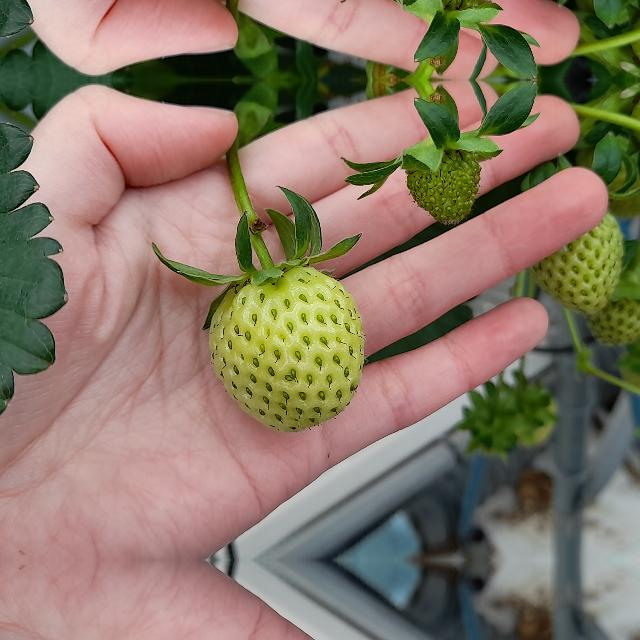Health_25: (208, 266, 364, 432), (536, 200, 612, 312), (406, 142, 484, 226), (406, 0, 484, 18)
